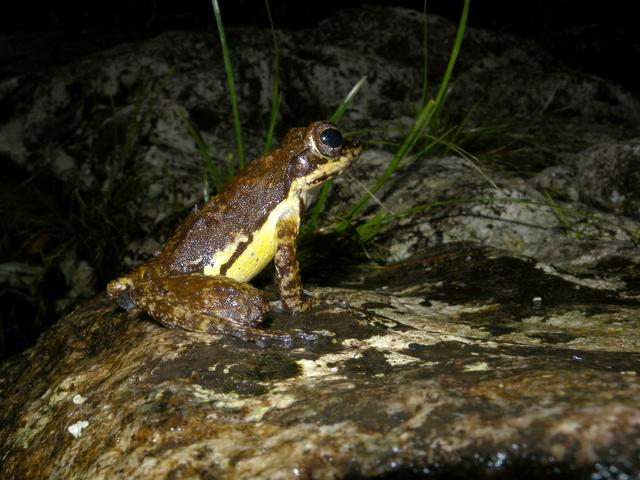frog: (55, 80, 435, 345)
